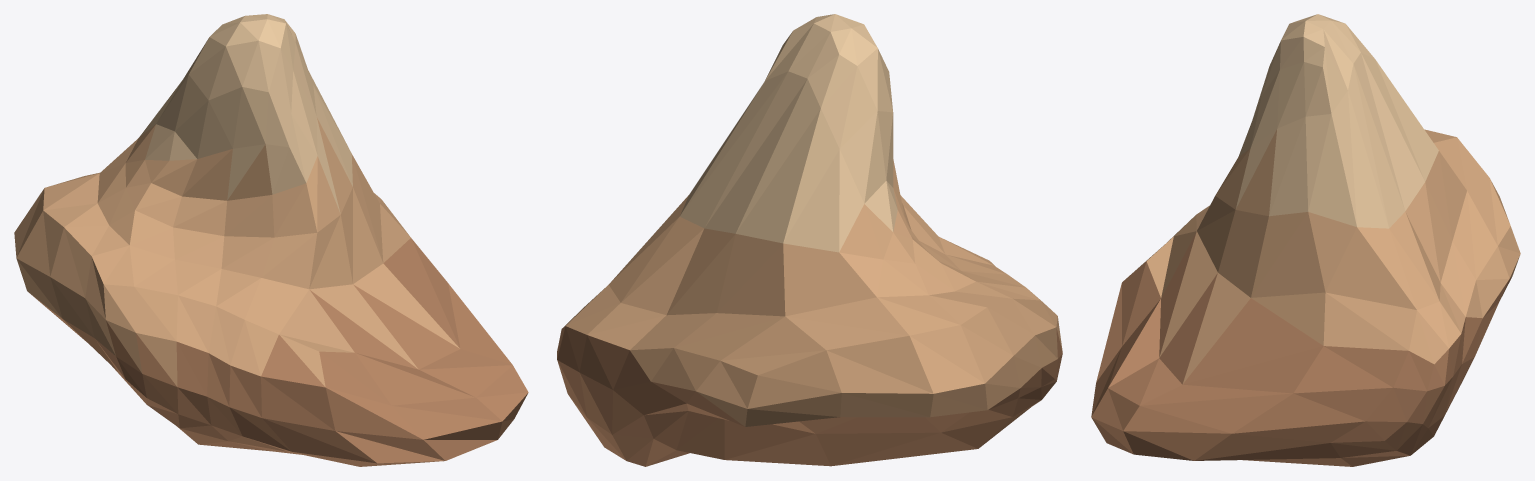
Rendered from canyon-4-1.glb.
3 renders of one model, left to right at view 1: azimuth 30°, elevation 25°; view 2: azimuth 150°, elevation 25°; view 3: azimuth 270°, elevation 25°, orthographic. The views are drawn at different scales.
Parts seen in each view (by area): view 1: canyon-4-1; view 2: canyon-4-1; view 3: canyon-4-1.
Boxes of the visible parts, x1,y1,x2,y2 form: canyon-4-1: (14,14,528,466); canyon-4-1: (557,14,1062,466); canyon-4-1: (1091,14,1520,466).
Size of the model in its own units: 21.49 by 22 by 22.03.
